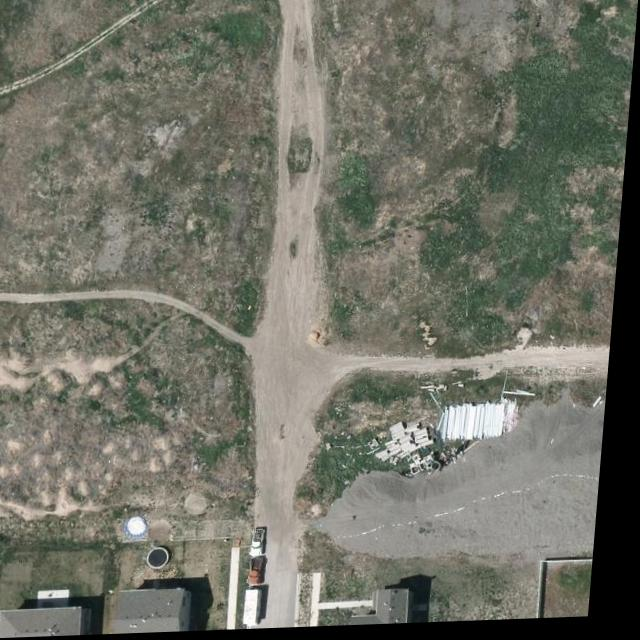vehicle: (258, 559, 277, 588), (258, 531, 275, 559)
